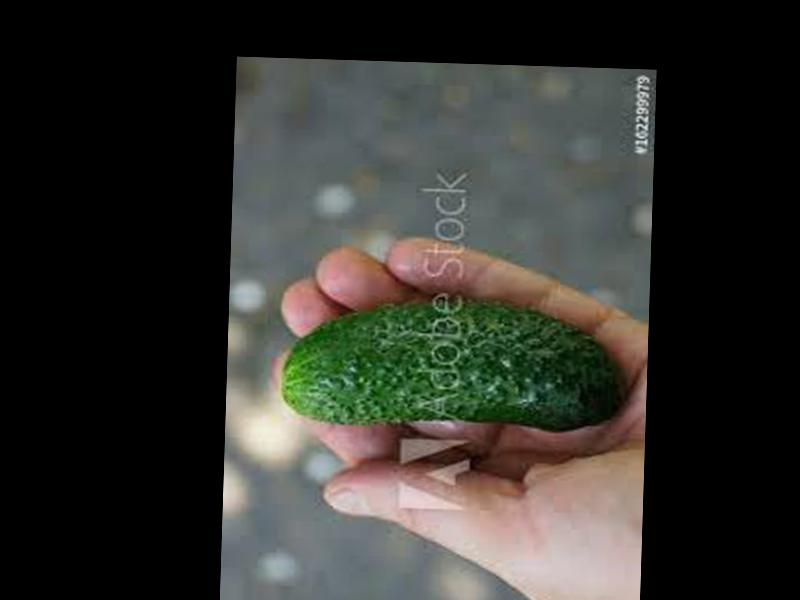Cucumber: (283, 292, 624, 432)
